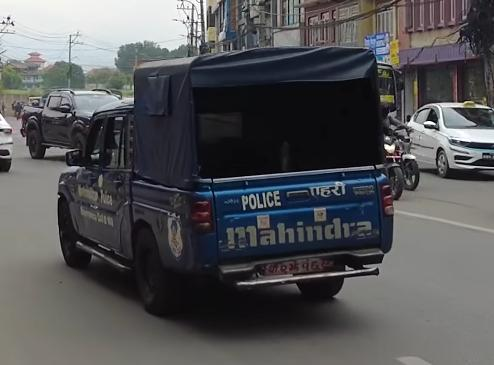police_vehicle: (51, 41, 399, 319)
